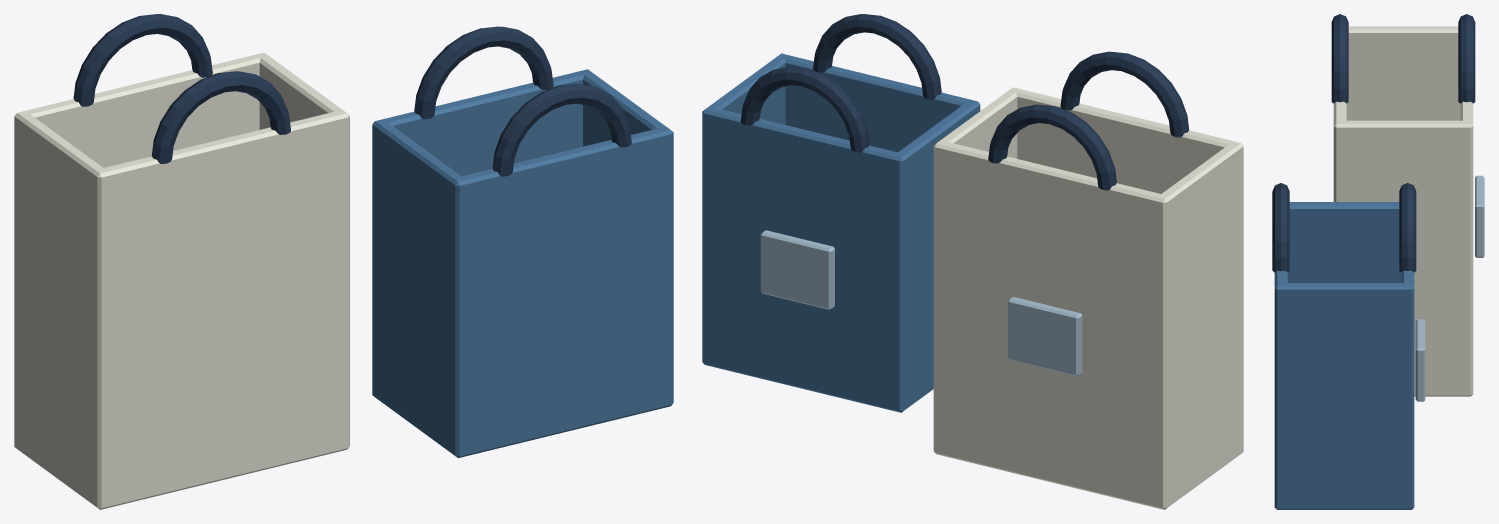
The model's file is shopping_bag_pair.glb.
3 views of the same model, side by side, from view 1: azimuth 30°, elevation 25°; view 2: azimuth 150°, elevation 25°; view 3: azimuth 270°, elevation 25° (orthographic). The views are drawn at different scales.
Parts seen in each view (by area): view 1: bag_wall (×4), bag_side (×4), bag_handle (×4), bag_floor (×2); view 2: bag_wall (×4), bag_side (×4), bag_handle (×4), bag_logo (×2), bag_floor (×2); view 3: bag_side (×4), bag_handle (×4), bag_wall (×4), bag_floor (×2), bag_logo (×2).
Boxes of the visible parts, x1,y1,x2,y2 form: bag_wall (×4): [14, 53, 672, 509]; bag_side (×4): [14, 52, 673, 509]; bag_handle (×4): [73, 14, 631, 176]; bag_floor (×2): [15, 377, 670, 505]; bag_wall (×4): [703, 53, 1243, 509]; bag_side (×4): [702, 53, 1243, 509]; bag_handle (×4): [740, 14, 1188, 190]; bag_logo (×2): [760, 230, 1082, 376]; bag_floor (×2): [705, 346, 1212, 505]; bag_side (×4): [1274, 26, 1473, 509]; bag_handle (×4): [1272, 14, 1475, 272]; bag_wall (×4): [1274, 101, 1473, 509]; bag_floor (×2): [1279, 380, 1468, 507]; bag_logo (×2): [1415, 175, 1484, 401].
Bounding box in the file's own units: 0.47 × 0.337 × 0.1975.
